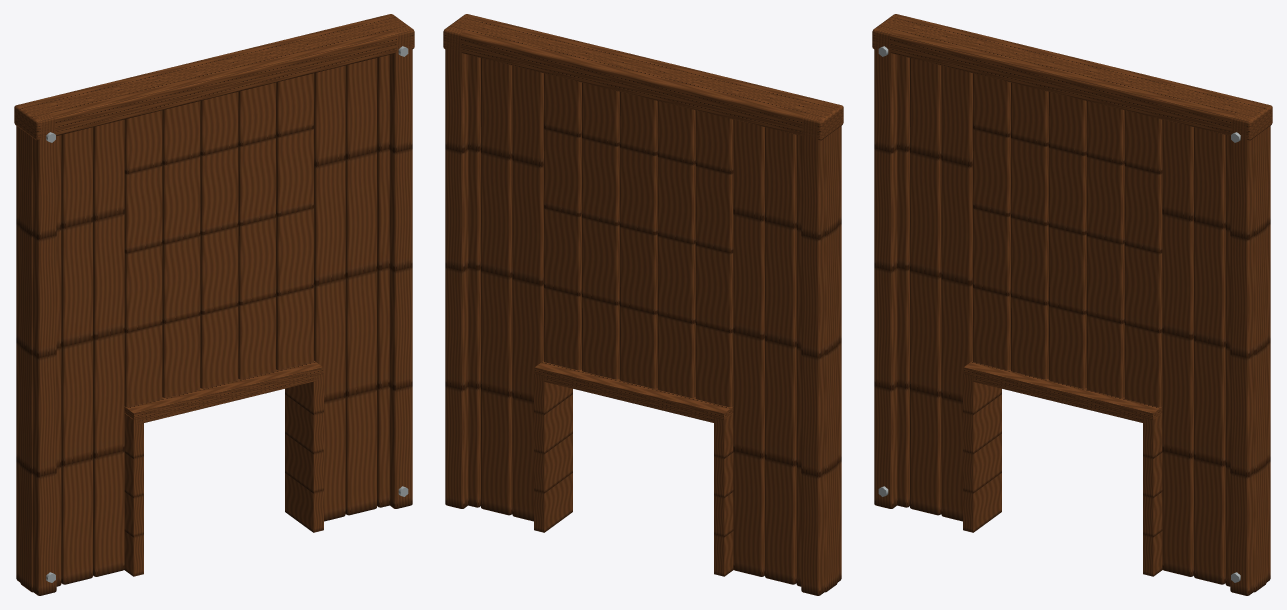
File: modular-survival-base-builder-wall-low-pass-through-8d0bf065__24158.glb
The picture shows the model from 3 angles, left to right: view 1: azimuth 30°, elevation 25°; view 2: azimuth 150°, elevation 25°; view 3: azimuth 330°, elevation 25°; orthographic projection.
Visible parts, largest first — view 1: wall-low-pass-through; view 2: wall-low-pass-through; view 3: wall-low-pass-through.
Boxes of the visible parts, <box> form: wall-low-pass-through: <box>14,14,414,595</box>; wall-low-pass-through: <box>443,14,843,595</box>; wall-low-pass-through: <box>872,14,1272,595</box>.
Size of the model in its own units: 2 by 2.4 by 0.2599.
Materials: 2 (1 with a texture image).
